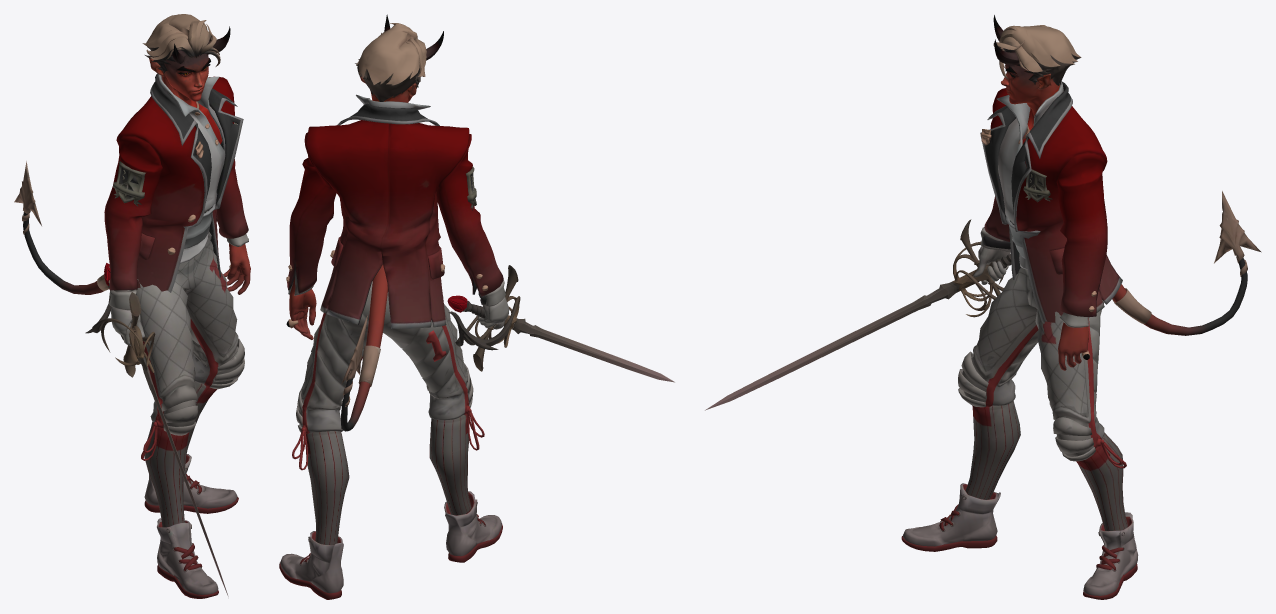
3 views of the same model, side by side, from view 1: azimuth 30°, elevation 25°; view 2: azimuth 150°, elevation 25°; view 3: azimuth 270°, elevation 25° (orthographic).
Parts seen in each view (by area): view 1: models\heroes_wip\fencer\fencer.vmdl_c.fencer_model, models\heroes_wip\fencer\fencer.vmdl_c.head, models\heroes_wip\fencer\fencer.vmdl_c.sword_model; view 2: models\heroes_wip\fencer\fencer.vmdl_c.fencer_model, models\heroes_wip\fencer\fencer.vmdl_c.head, models\heroes_wip\fencer\fencer.vmdl_c.sword_model; view 3: models\heroes_wip\fencer\fencer.vmdl_c.fencer_model, models\heroes_wip\fencer\fencer.vmdl_c.head, models\heroes_wip\fencer\fencer.vmdl_c.sword_model.
Part boxes in pixels (left/top/right/bottom): models\heroes_wip\fencer\fencer.vmdl_c.fencer_model: left=14, top=73, right=250, bottom=598; models\heroes_wip\fencer\fencer.vmdl_c.head: left=142, top=14, right=230, bottom=143; models\heroes_wip\fencer\fencer.vmdl_c.sword_model: left=85, top=263, right=228, bottom=596; models\heroes_wip\fencer\fencer.vmdl_c.fencer_model: left=279, top=94, right=509, bottom=599; models\heroes_wip\fencer\fencer.vmdl_c.head: left=355, top=14, right=443, bottom=102; models\heroes_wip\fencer\fencer.vmdl_c.sword_model: left=447, top=265, right=674, bottom=382; models\heroes_wip\fencer\fencer.vmdl_c.fencer_model: left=901, top=81, right=1261, bottom=599; models\heroes_wip\fencer\fencer.vmdl_c.head: left=993, top=15, right=1081, bottom=144; models\heroes_wip\fencer\fencer.vmdl_c.sword_model: left=705, top=219, right=1011, bottom=410.
Bounding box in the file's own units: 0.9707 × 2.46 × 2.3.
Materials: 7 (6 with a texture image).
